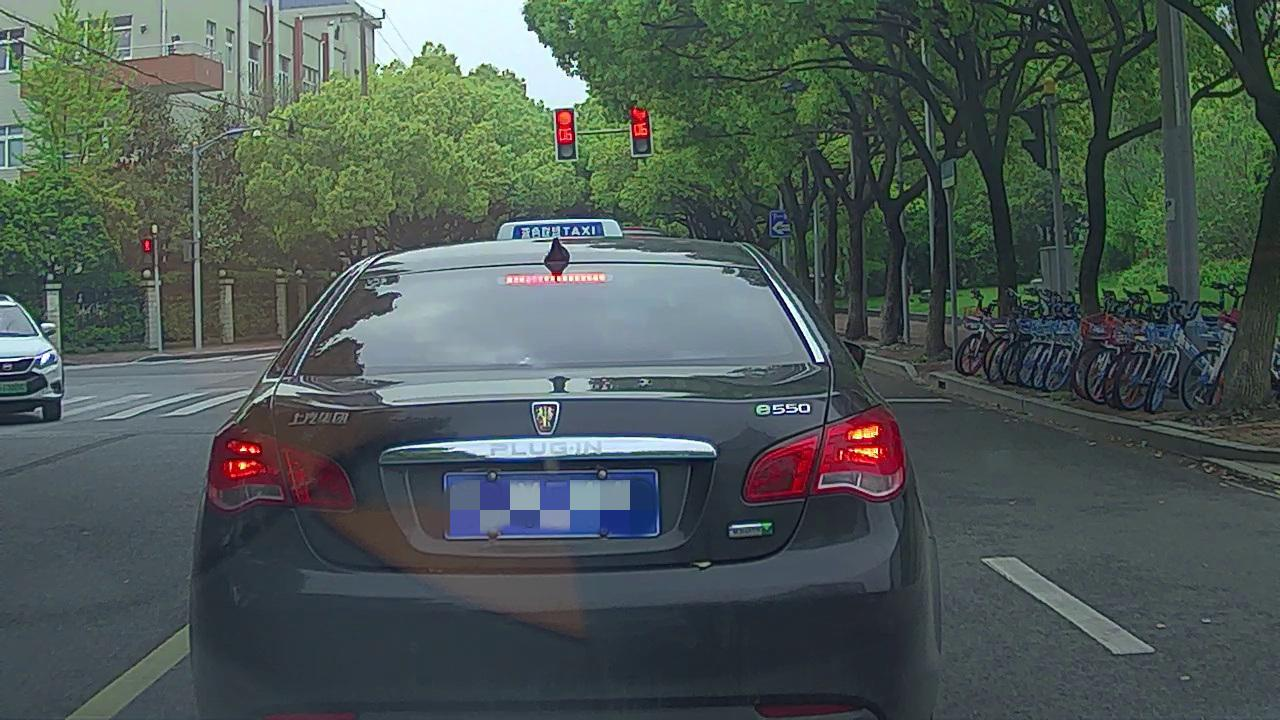traffic_light: (555, 111, 577, 159), (631, 107, 651, 155)
